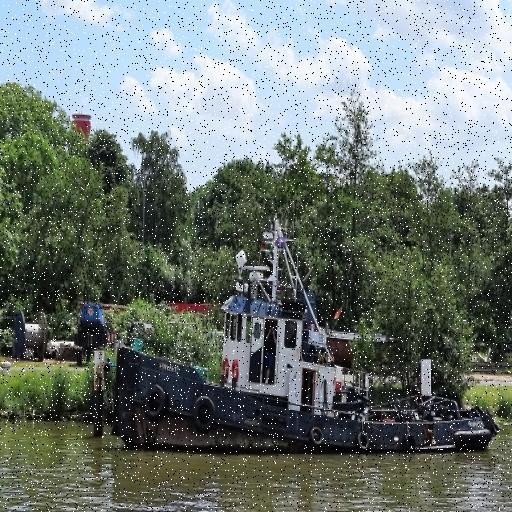tugboat: (111, 212, 502, 461)
